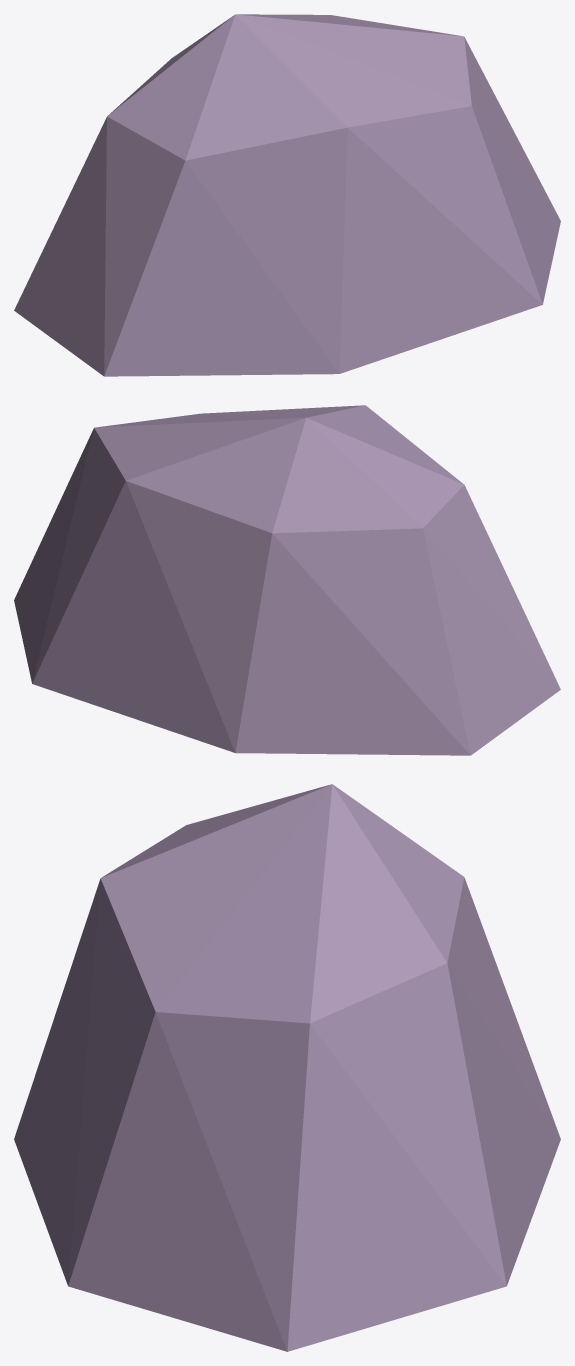
3 renders of one model, top to bottom at view 1: azimuth 30°, elevation 25°; view 2: azimuth 150°, elevation 25°; view 3: azimuth 270°, elevation 25°, orthographic. The views are drawn at different scales.
Visible parts, largest first — view 1: 区域散石_CliffLight.001; view 2: 区域散石_CliffLight.001; view 3: 区域散石_CliffLight.001.
Part boxes in pixels (x1=…): 区域散石_CliffLight.001: x1=14, y1=14, x2=560, y2=376; 区域散石_CliffLight.001: x1=14, y1=405, x2=560, y2=755; 区域散石_CliffLight.001: x1=14, y1=784, x2=560, y2=1351.
Size of the model in its own units: 0.4182 by 0.215 by 0.2925.
